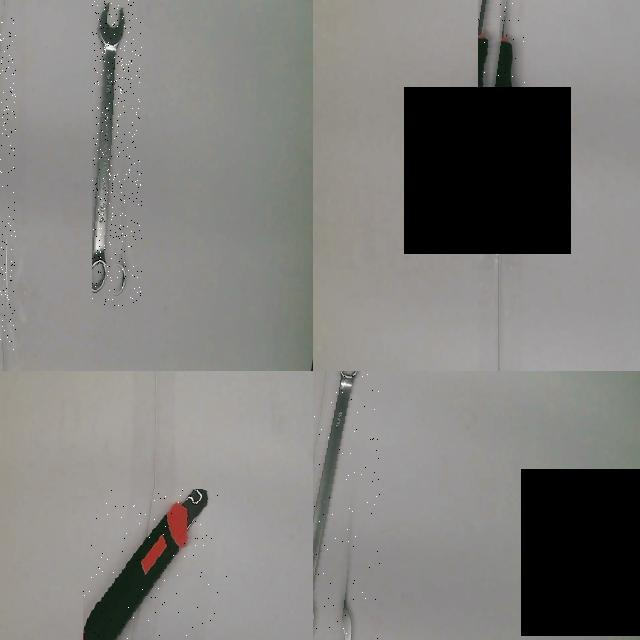estilete: (83, 489, 207, 639)
